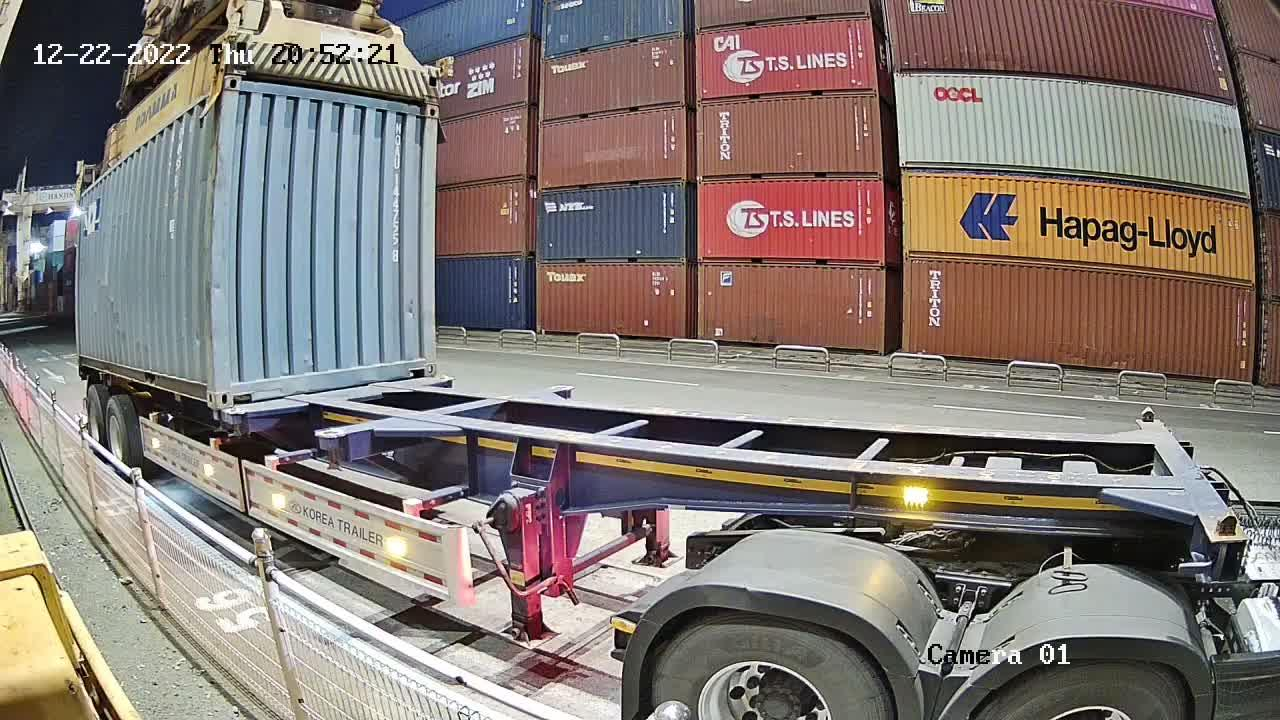Chassis: (233, 376, 455, 421)
Cone: (226, 408, 240, 438), (209, 411, 223, 435)
Hole_L: (217, 369, 251, 408)
Hole_R: (406, 341, 438, 377), (192, 371, 217, 408)
Tire: (105, 398, 133, 473), (86, 390, 105, 455)
